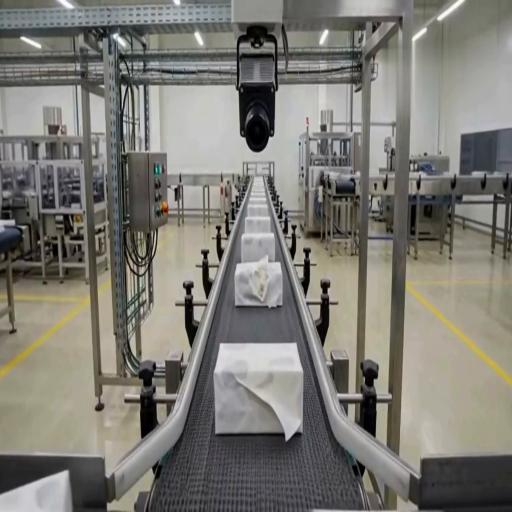defective: (214, 343, 302, 439), (234, 259, 284, 308)
good: (0, 470, 72, 511), (240, 232, 275, 264), (243, 216, 272, 234), (244, 203, 270, 218), (248, 183, 268, 197)
